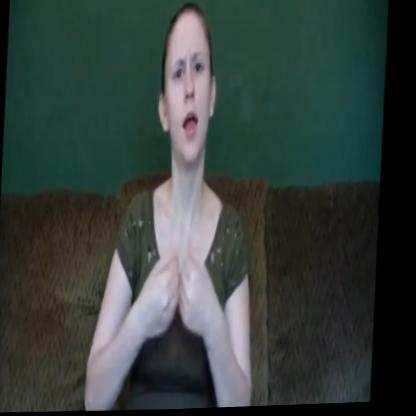HowAreYou: (85, 0, 272, 413)
